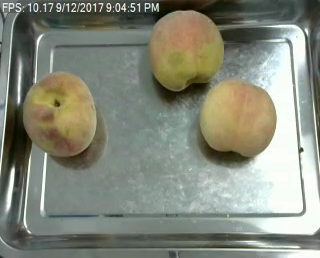Peach: (23, 71, 98, 156), (148, 10, 223, 92), (199, 80, 276, 157)
